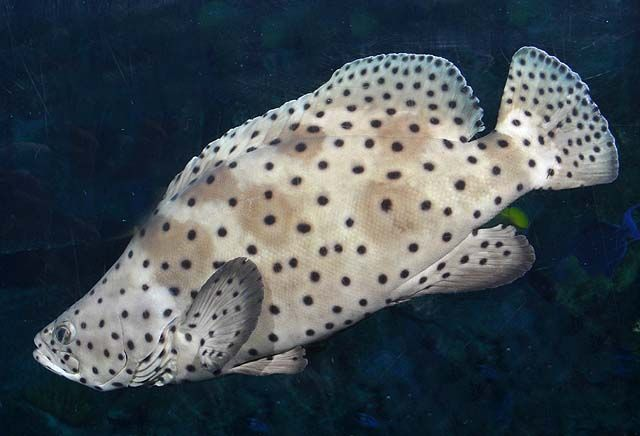fish: (31, 46, 621, 389)
